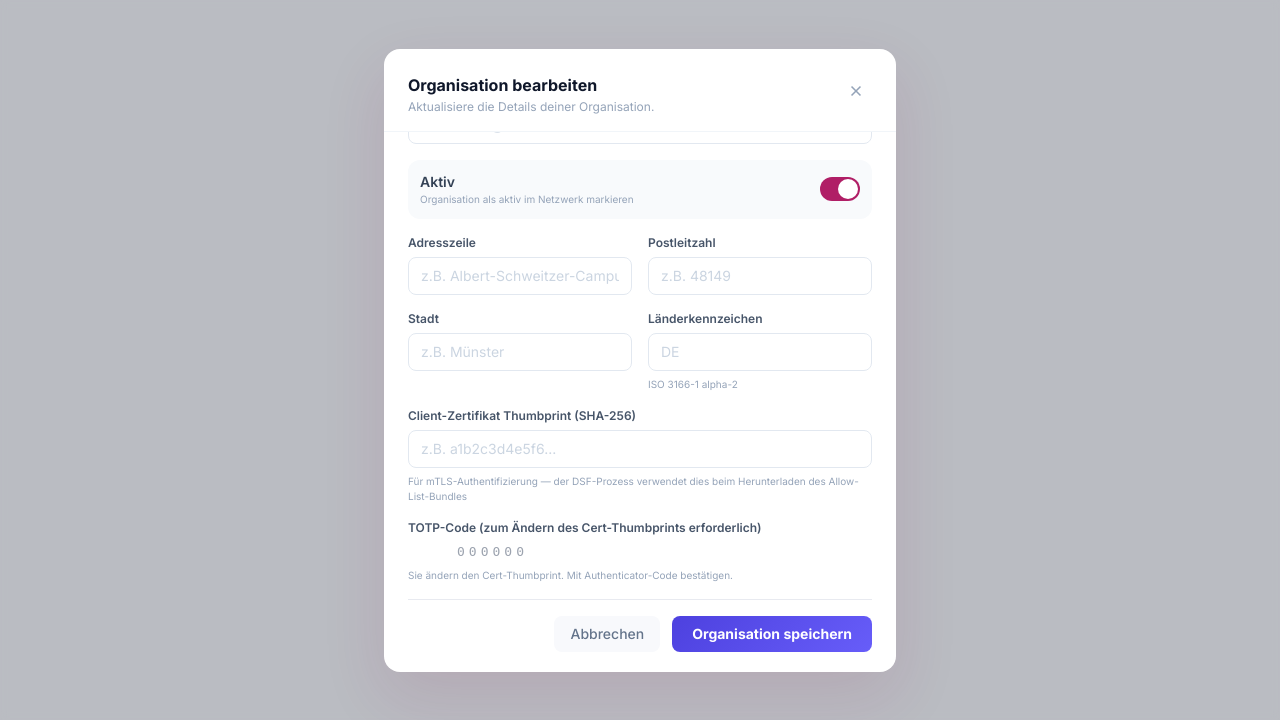
Test: translated form-validation messages › resolves schema error codes to German text when lang is de
(page scrolled)
Step 1. Click the button "Organisation speichern" → (772, 634), box [672,616,872,652]
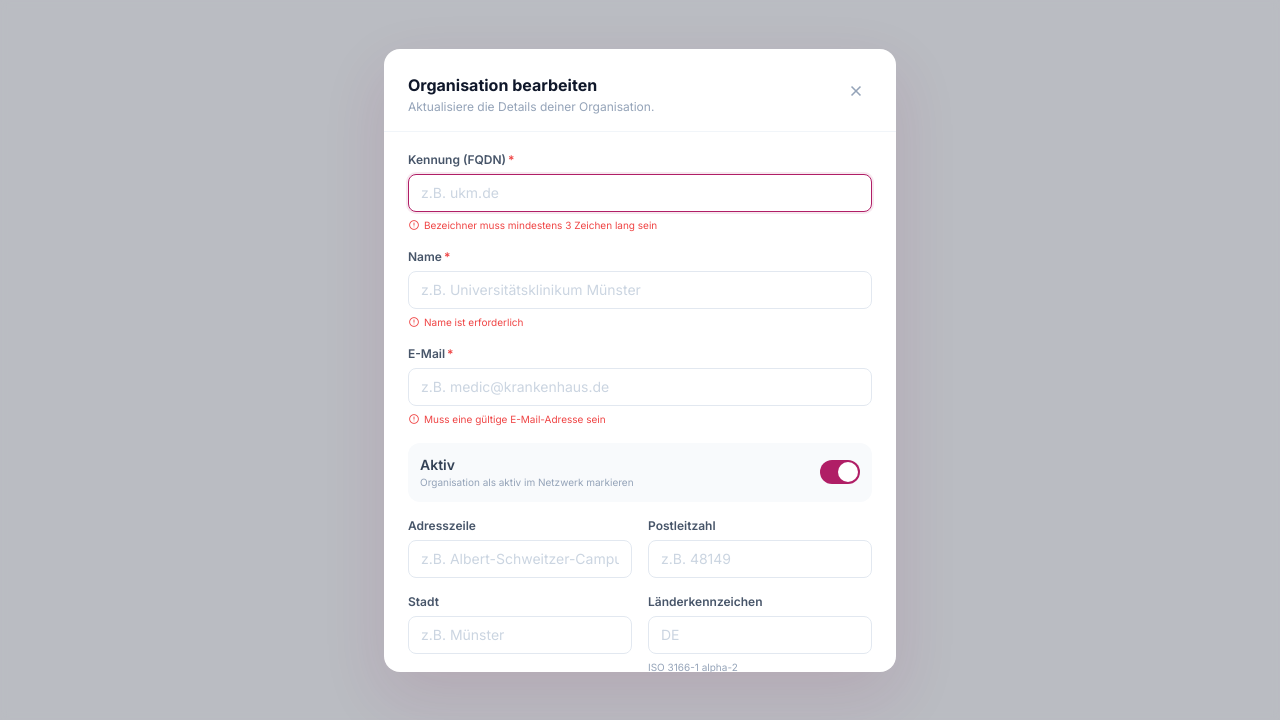
Check: the text "Name ist erforderlich" is shown, box [408,315,524,329]
